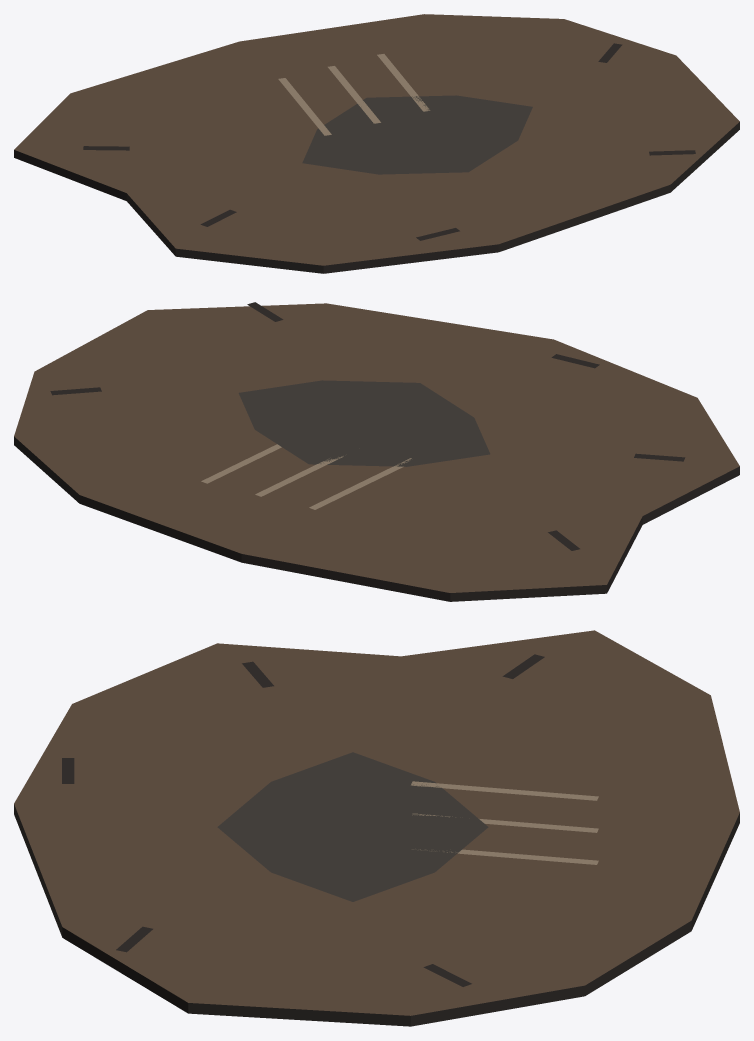
The model's file is TannedBearHide.glb.
3 renders of one model, top to bottom at view 1: azimuth 30°, elevation 25°; view 2: azimuth 150°, elevation 25°; view 3: azimuth 270°, elevation 25°, orthographic. The views are drawn at different scales.
Parts seen in each view (by area): view 1: TannedBearHide; view 2: TannedBearHide; view 3: TannedBearHide.
Boxes of the visible parts, bbox=[...] form: TannedBearHide: bbox=[14, 14, 739, 273]; TannedBearHide: bbox=[14, 302, 739, 601]; TannedBearHide: bbox=[14, 630, 739, 1026].
Size of the model in its own units: 1.92 by 0.04 by 1.53.
